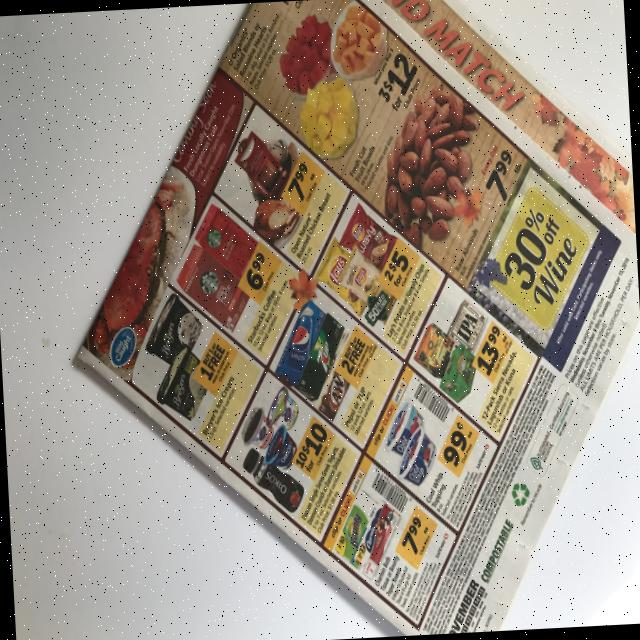paper: (57, 0, 640, 640)
